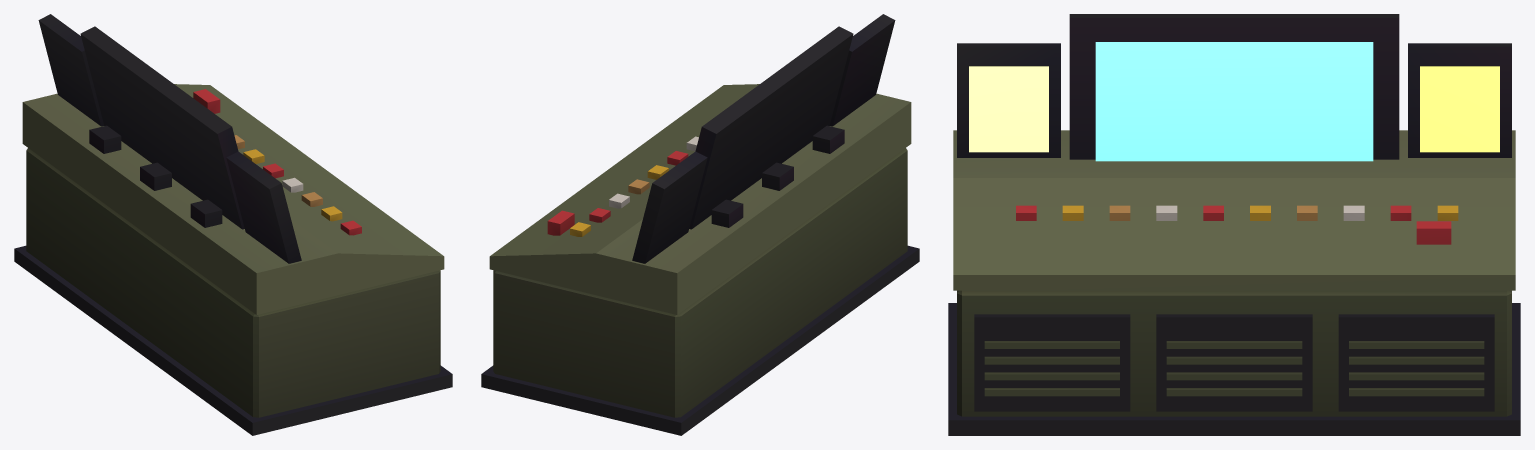
Rendered from kit.dispersal-console.glb.
The picture shows the model from 3 angles, left to right: view 1: azimuth 30°, elevation 25°; view 2: azimuth 150°, elevation 25°; view 3: azimuth 270°, elevation 25°; orthographic projection. The views are drawn at different scales.
Visible parts, largest first — view 1: emitter:equipment:9; view 2: emitter:equipment:9; view 3: emitter:equipment:9, emitter:equipment:6.
Part boxes in pixels (x1=…): emitter:equipment:9: x1=14, y1=14, x2=452, y2=435; emitter:equipment:9: x1=481, y1=14, x2=919, y2=435; emitter:equipment:9: x1=948, y1=14, x2=1520, y2=435; emitter:equipment:6: x1=1095, y1=42, x2=1373, y2=161.
Size of the model in its own units: 1.62 by 2.03 by 3.3.
